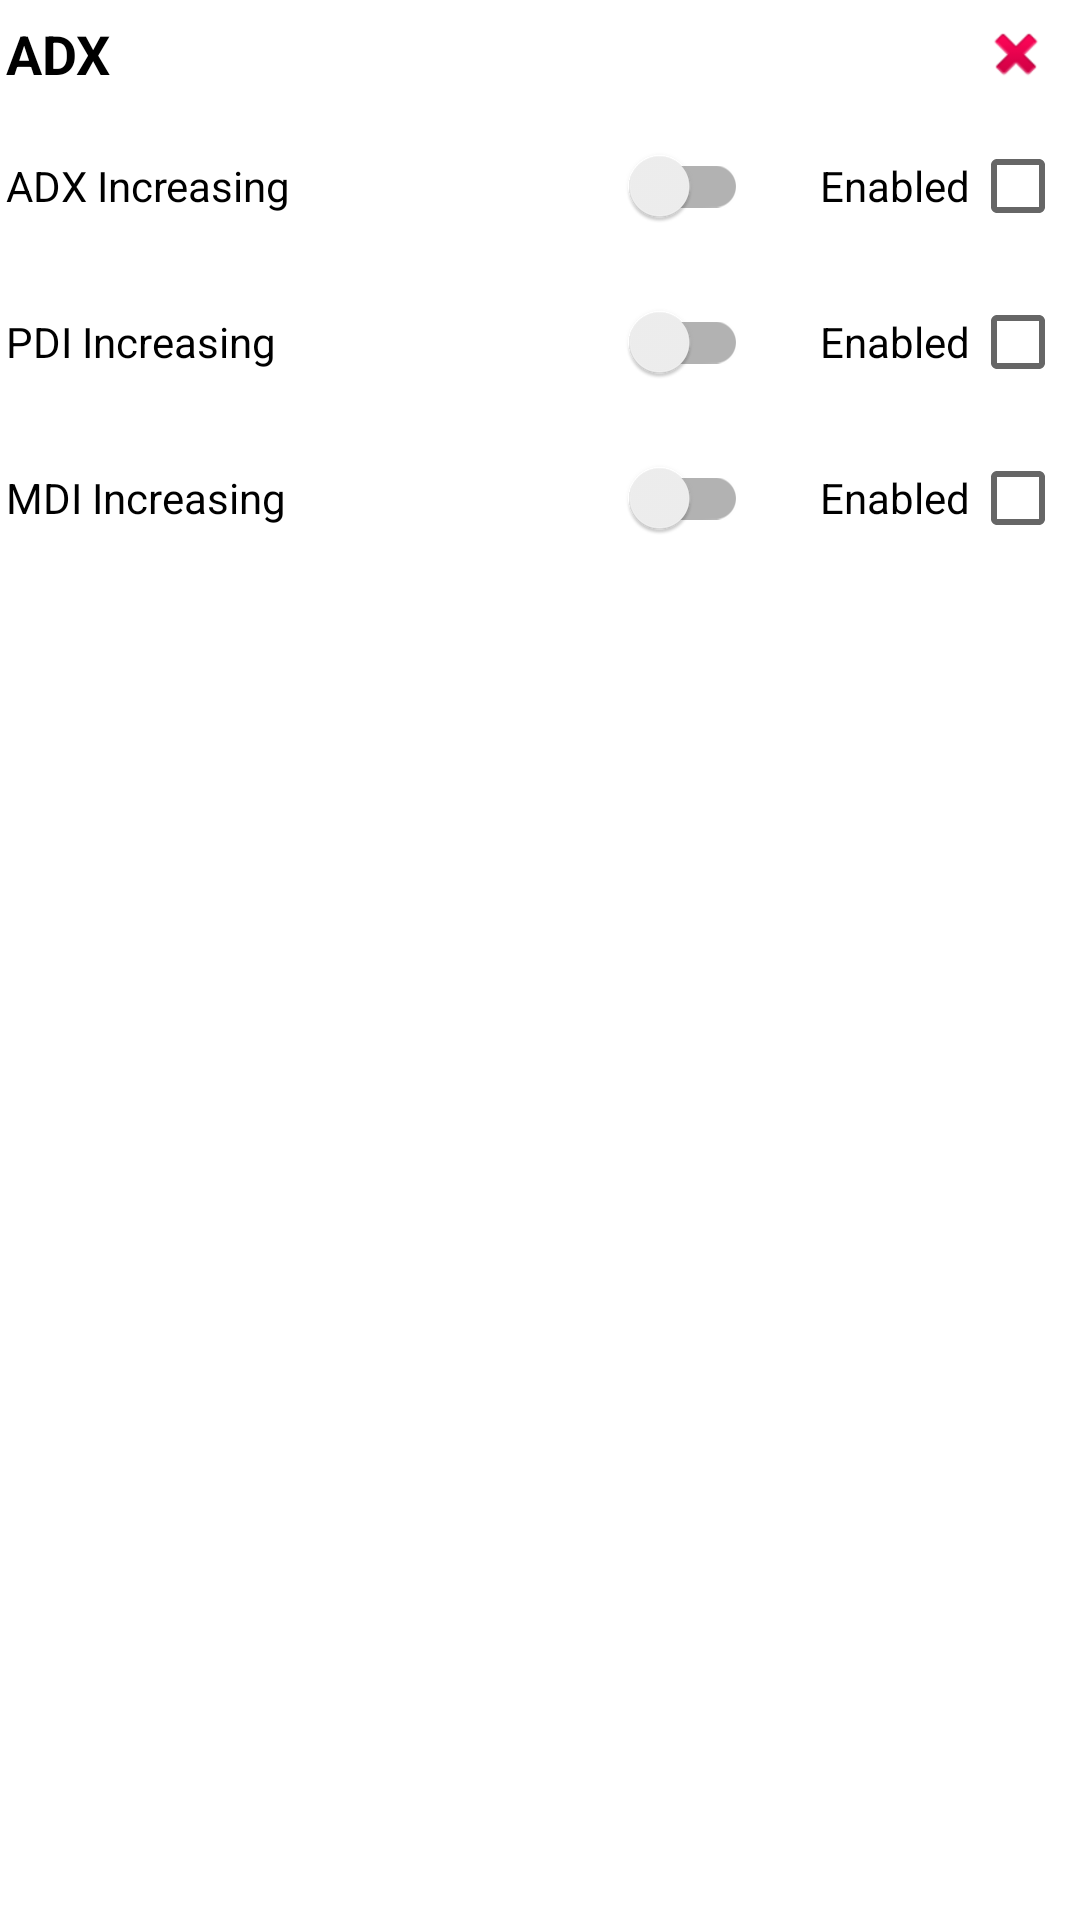

Screen size 1080 × 1920. Icon name, then its center in pixels as (x,y):
delete: (1016,54)
